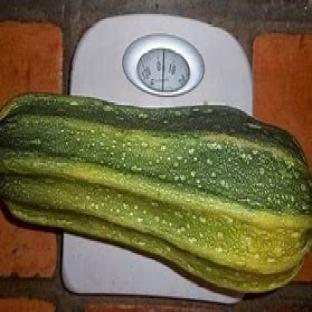Zucchini: (0, 96, 311, 291)
